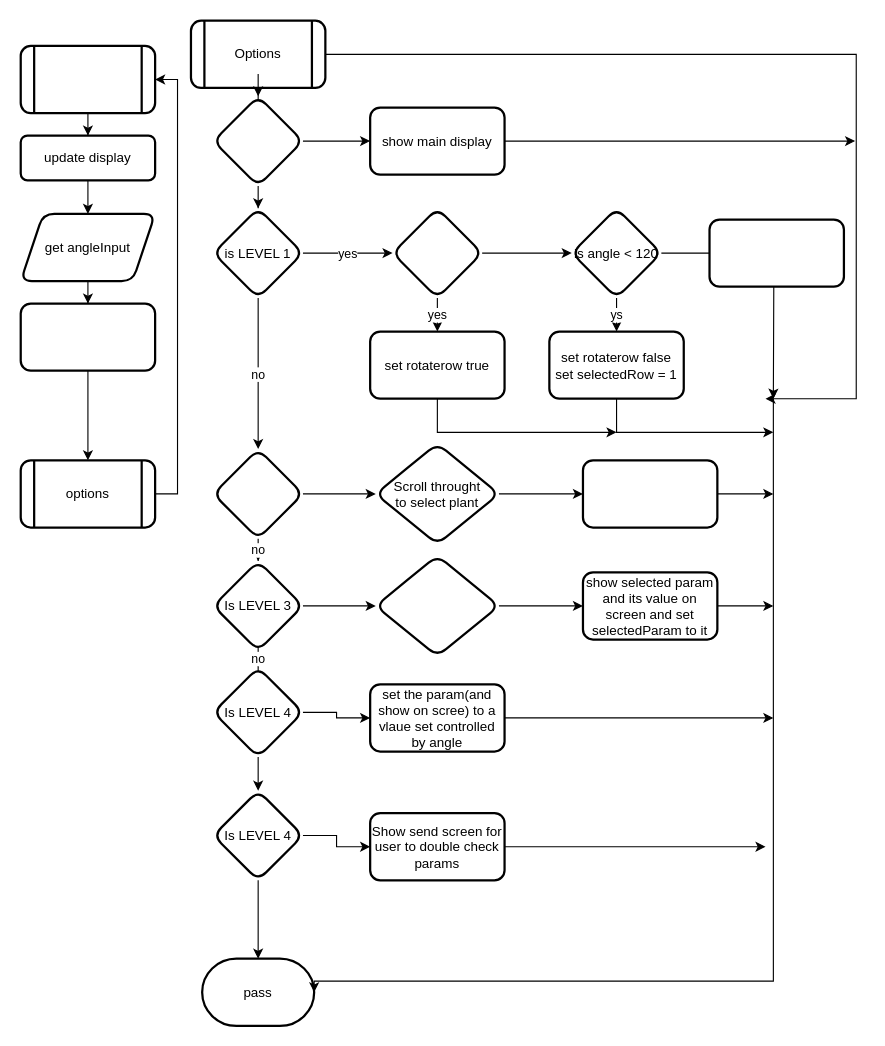
The diagram is 885 pixels wide and 1046 high, and some of its shapes have lost their labels. Each missing label, with the centre of its shape:
"highlight selected plant and set selectedPlant to it" belongs at pixel 649 493.
"is angle < 60" belongs at pixel 437 252.
"is LEVEL 0" belongs at pixel 258 140.
"Is LEVEL 2" belongs at pixel 258 493.
"main loop" belongs at pixel 87 79.
"Scroll throught to select param" belongs at pixel 437 605.
"set global var angle to angleInput/364 normalise to range 0-180" belongs at pixel 87 336.
"set rotaterow false set selectedRow = 2" belongs at pixel 776 252.
